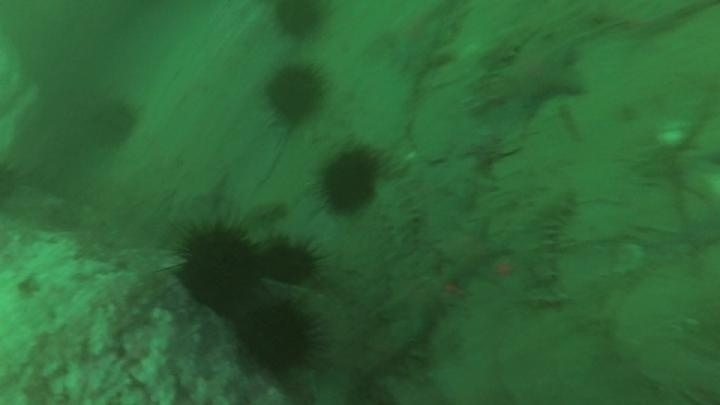echinus: (172, 224, 263, 314), (237, 302, 319, 376), (315, 146, 384, 216), (262, 61, 329, 127), (255, 236, 323, 289), (87, 96, 140, 150), (270, 1, 329, 42)
holothurian: (518, 187, 579, 292), (379, 174, 424, 253), (475, 24, 538, 74)
starfish: (493, 41, 588, 117), (427, 347, 518, 405), (381, 3, 454, 72), (379, 270, 448, 334), (439, 220, 510, 282)
